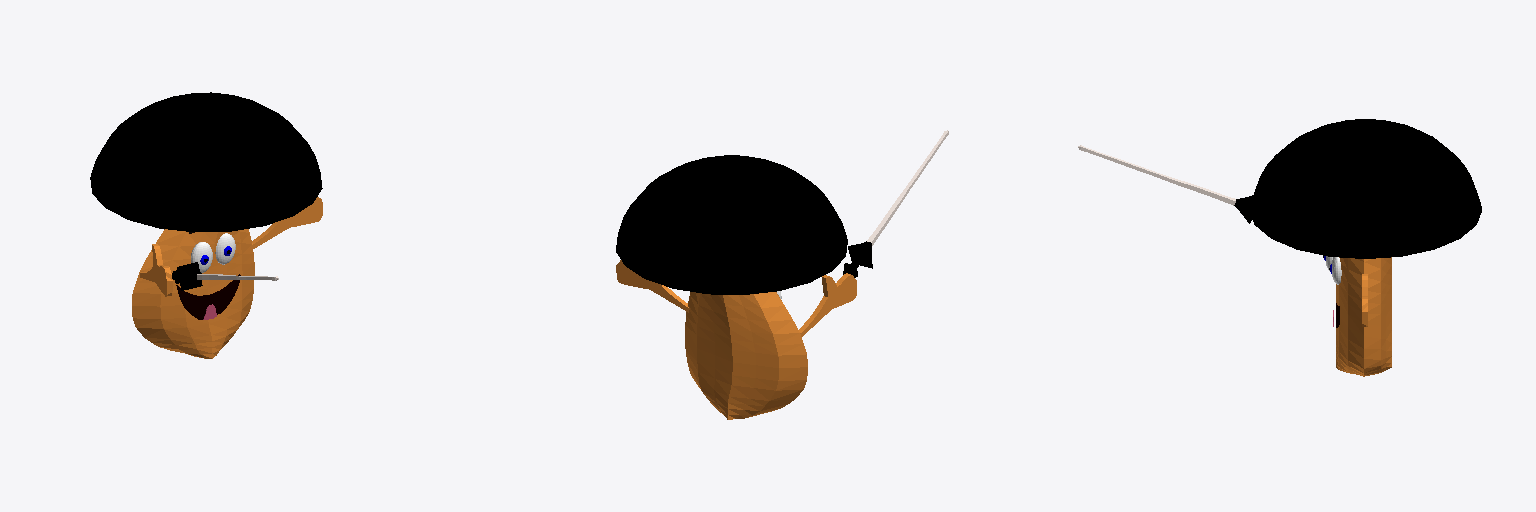
File: MushroomsWORSHIPPER2.obj
3 views of the same model, side by side, from view 1: azimuth 30°, elevation 25°; view 2: azimuth 150°, elevation 25°; view 3: azimuth 270°, elevation 25° (orthographic).
Parts seen in each view (by area): view 1: polySurface13 polySurface30, polySurface13 polySurface27, polySurface26 polySurface13, polySurface13 polySurface28, MushroomsSPEAR:polySurface1, polySurface13 polySurface29; view 2: polySurface13 polySurface30, polySurface13 polySurface27, MushroomsSPEAR:polySurface1, polySurface13 polySurface29, polySurface13 polySurface28; view 3: polySurface13 polySurface30, polySurface13 polySurface27, MushroomsSPEAR:polySurface1.
Part boxes in pixels (bbox=[...]): polySurface13 polySurface30: bbox=[90, 92, 322, 231]; polySurface13 polySurface27: bbox=[132, 229, 254, 358]; polySurface26 polySurface13: bbox=[176, 274, 240, 319]; polySurface13 polySurface28: bbox=[251, 197, 322, 249]; MushroomsSPEAR:polySurface1: bbox=[172, 262, 278, 290]; polySurface13 polySurface29: bbox=[140, 244, 172, 296]; polySurface13 polySurface30: bbox=[616, 155, 847, 294]; polySurface13 polySurface27: bbox=[685, 292, 807, 419]; MushroomsSPEAR:polySurface1: bbox=[843, 130, 948, 277]; polySurface13 polySurface29: bbox=[799, 273, 856, 336]; polySurface13 polySurface28: bbox=[616, 260, 689, 312]; polySurface13 polySurface30: bbox=[1249, 119, 1481, 258]; polySurface13 polySurface27: bbox=[1336, 257, 1391, 376]; MushroomsSPEAR:polySurface1: bbox=[1078, 145, 1252, 223].
Size of the model in its own units: 4.09 by 4.38 by 6.65.